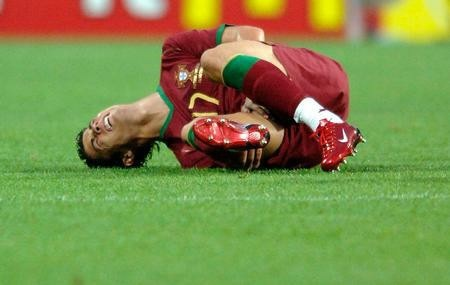falling: (71, 14, 371, 174)
